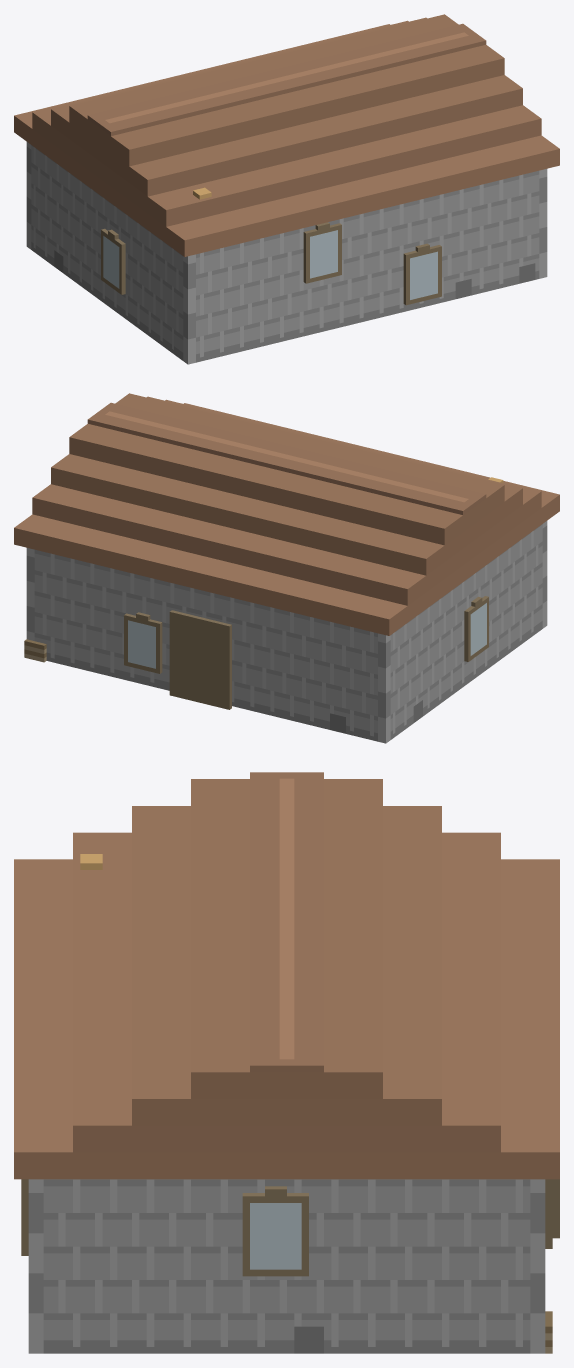
Rendered from herreria_02.glb.
3 views of the same model, one above another, from view 1: azimuth 30°, elevation 25°; view 2: azimuth 150°, elevation 25°; view 3: azimuth 270°, elevation 25° (orthographic). The views are drawn at different scales.
Visible parts, largest first — view 1: herreria_02; view 2: herreria_02; view 3: herreria_02.
Part boxes in pixels (x1,y1,x2,y2): herreria_02: (14,14,559,364); herreria_02: (14,393,559,743); herreria_02: (14,772,559,1353).
Bounding box in the file's own units: 9.4 × 4.4 × 7.4.
